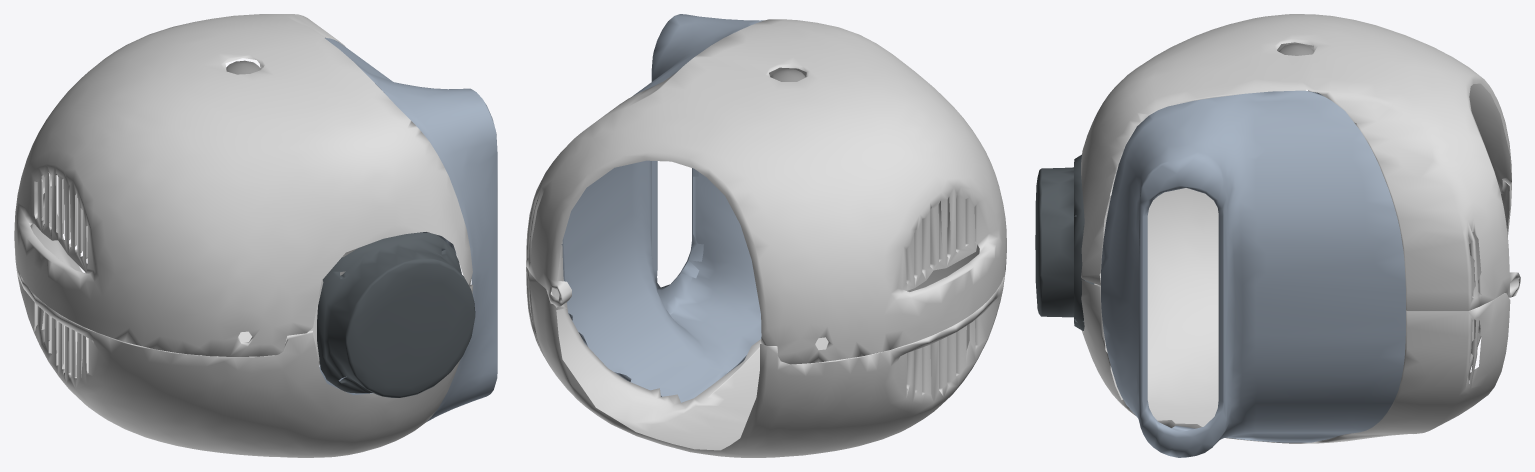
File: sim_ecub_1-1_head.obj
The picture shows the model from 3 angles, left to right: view 1: azimuth 30°, elevation 25°; view 2: azimuth 150°, elevation 25°; view 3: azimuth 270°, elevation 25°; orthographic projection. The views are drawn at different scales.
Size of the model in its own units: 199 by 182 by 226.
